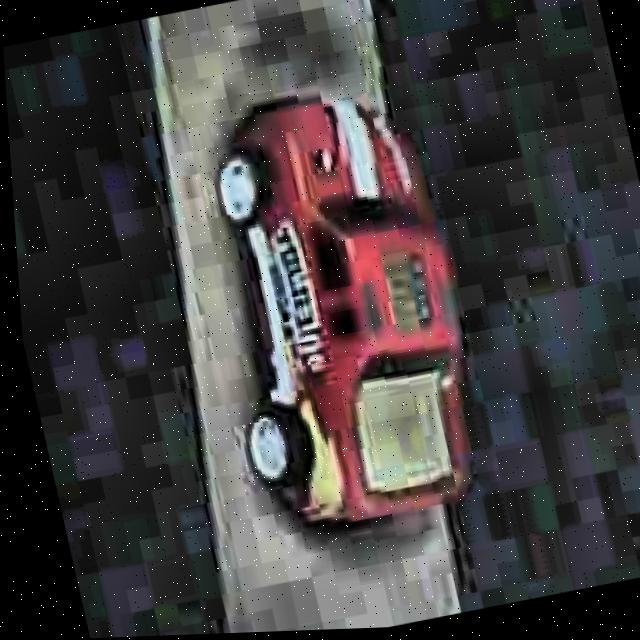car: (164, 70, 508, 553)
